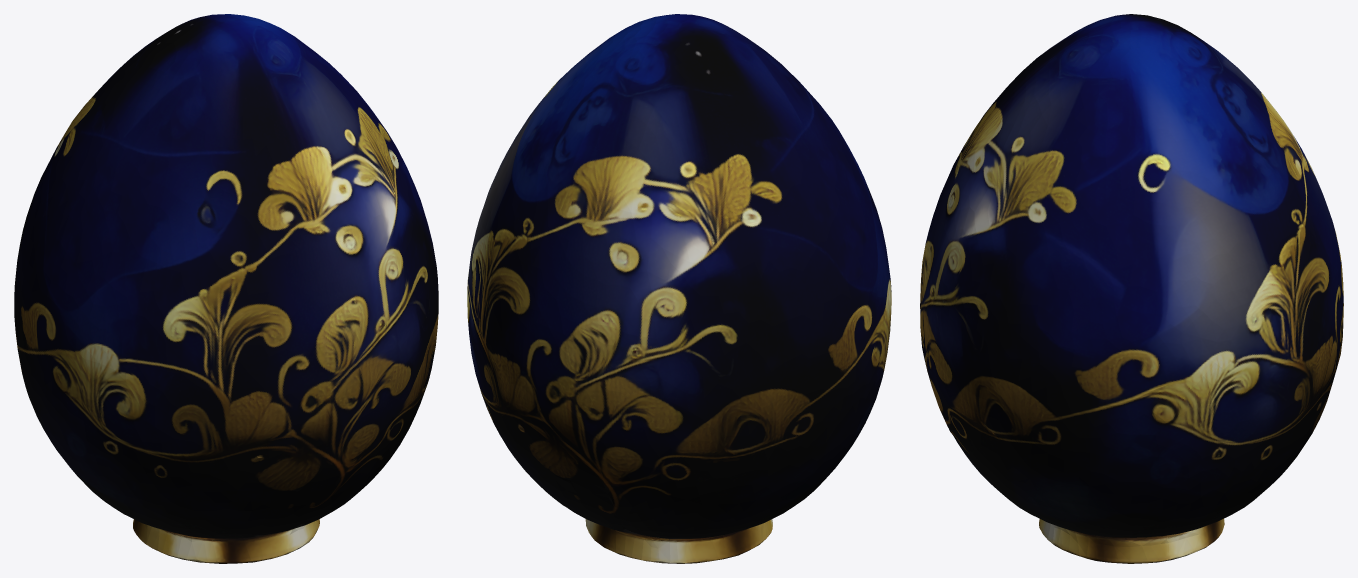
The model's file is porcelain-decorative-egg-japanese.jpeg.glb.
3 renders of one model, left to right at view 1: azimuth 30°, elevation 25°; view 2: azimuth 150°, elevation 25°; view 3: azimuth 270°, elevation 25°, orthographic.
Visible parts, largest first — view 1: world; view 2: world; view 3: world.
Boxes of the visible parts, <box> form: world: <box>14,14,438,563</box>; world: <box>467,14,891,563</box>; world: <box>920,14,1343,563</box>.
Size of the model in its own units: 0.7633 by 0.9988 by 0.7642.
1 material, 1 textured.
